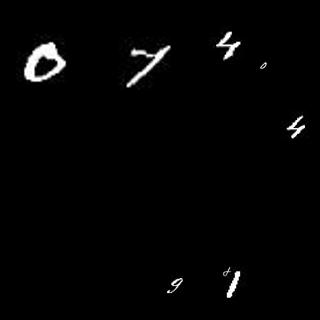eight: (222, 265, 233, 277)
four: (214, 32, 241, 62), (285, 114, 312, 138)
nine: (166, 274, 184, 295)
one: (227, 269, 242, 298)
seven: (123, 45, 177, 89)
zero: (24, 42, 72, 85), (258, 59, 269, 74)
